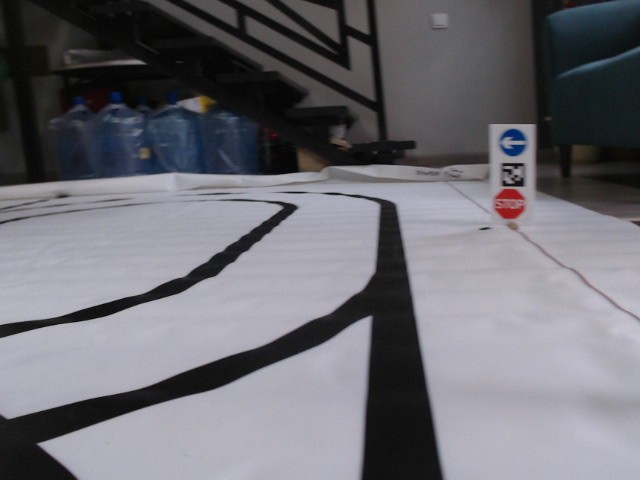Stop: (492, 188, 527, 219)
